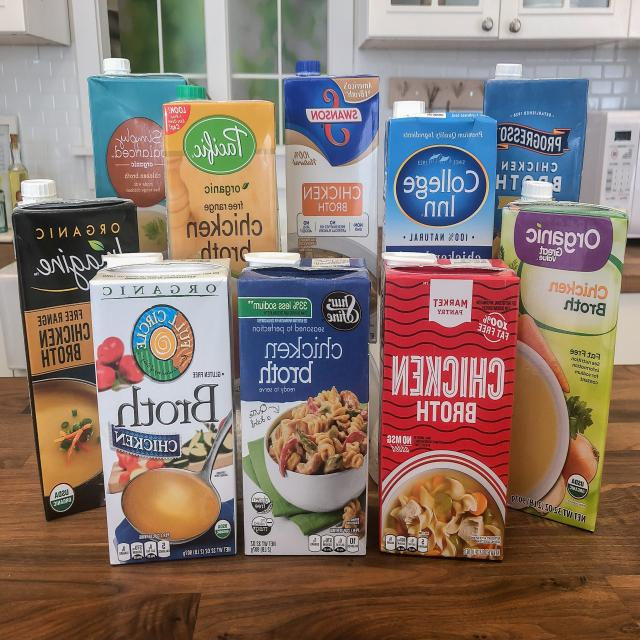cardboard: (87, 250, 235, 568), (11, 171, 139, 523), (501, 177, 625, 536), (377, 247, 518, 558), (240, 245, 370, 559), (161, 88, 278, 257), (282, 60, 381, 255), (92, 48, 185, 249), (381, 96, 500, 253), (488, 46, 596, 203)
